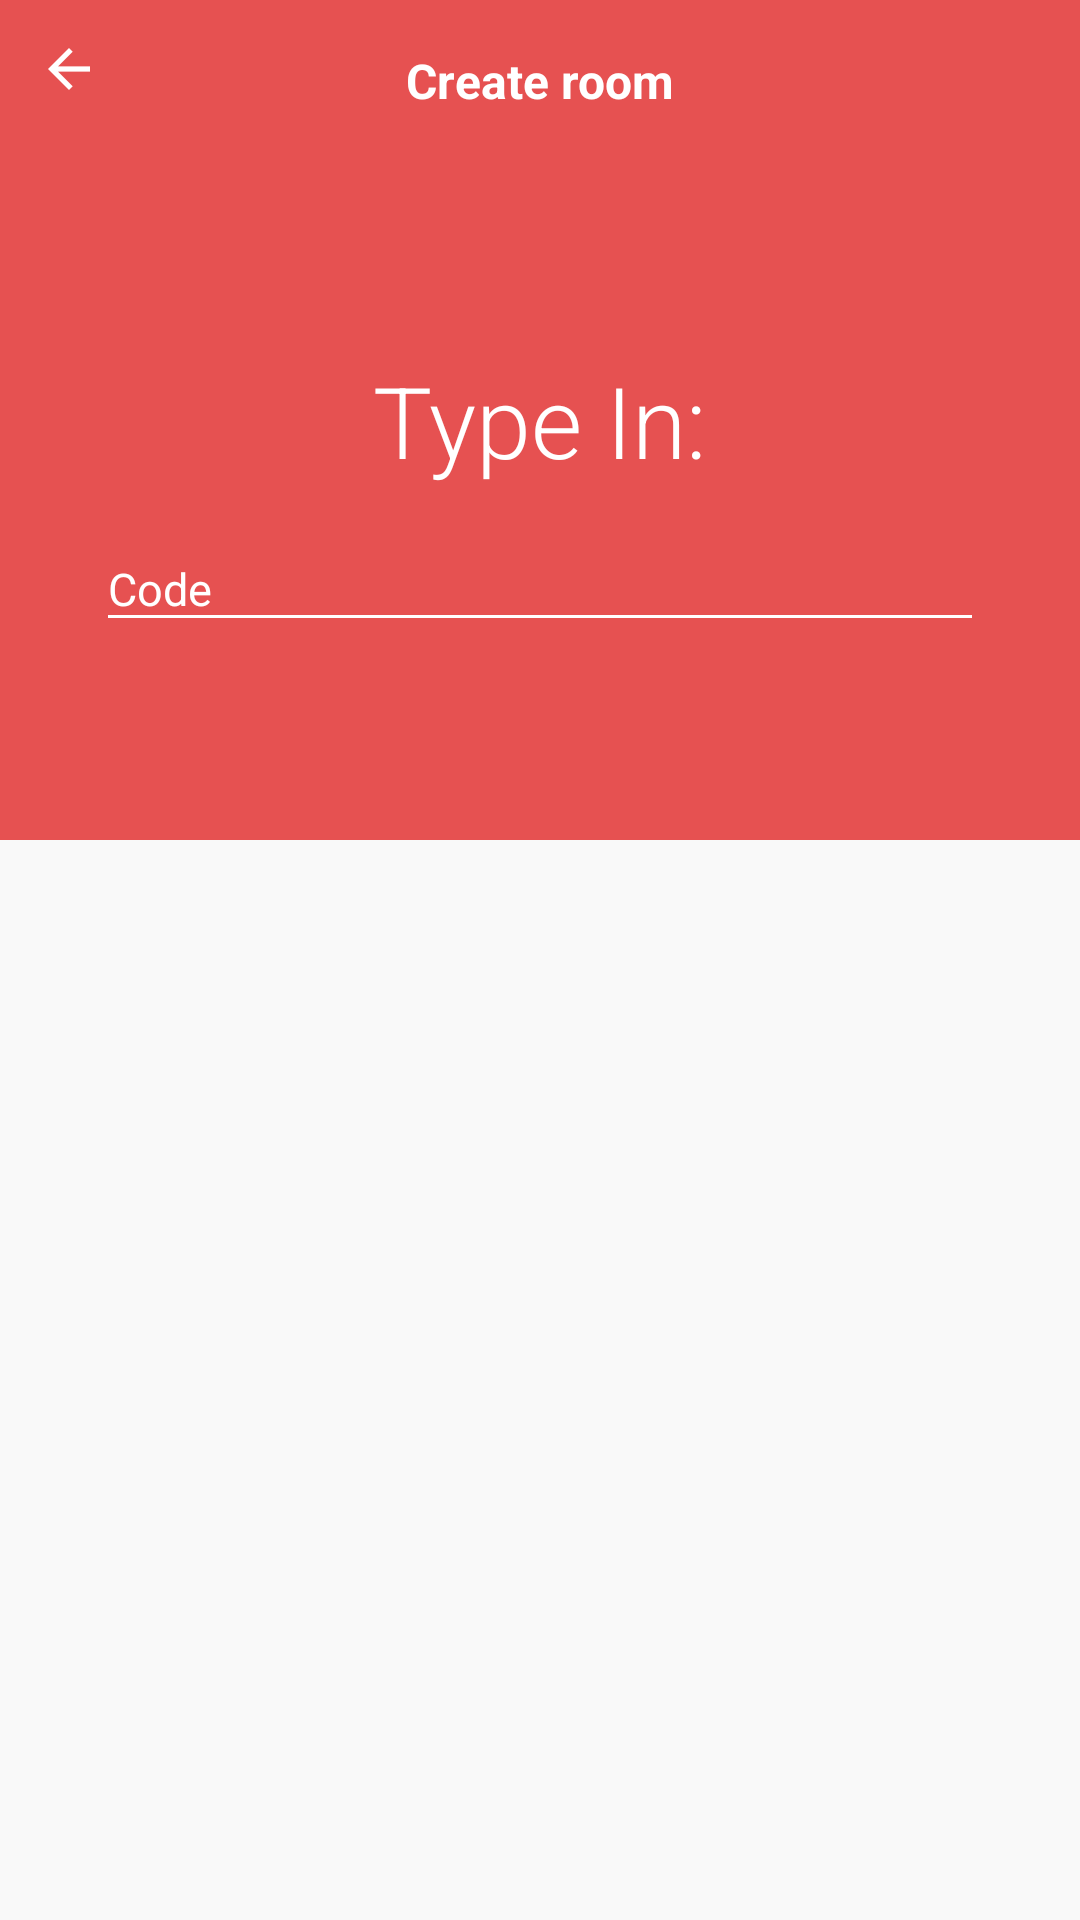

Where icons sit on this 1080×1920 app screen, as box(x1, y1, x2, y2):
back arrow: box(48, 48, 90, 90)
